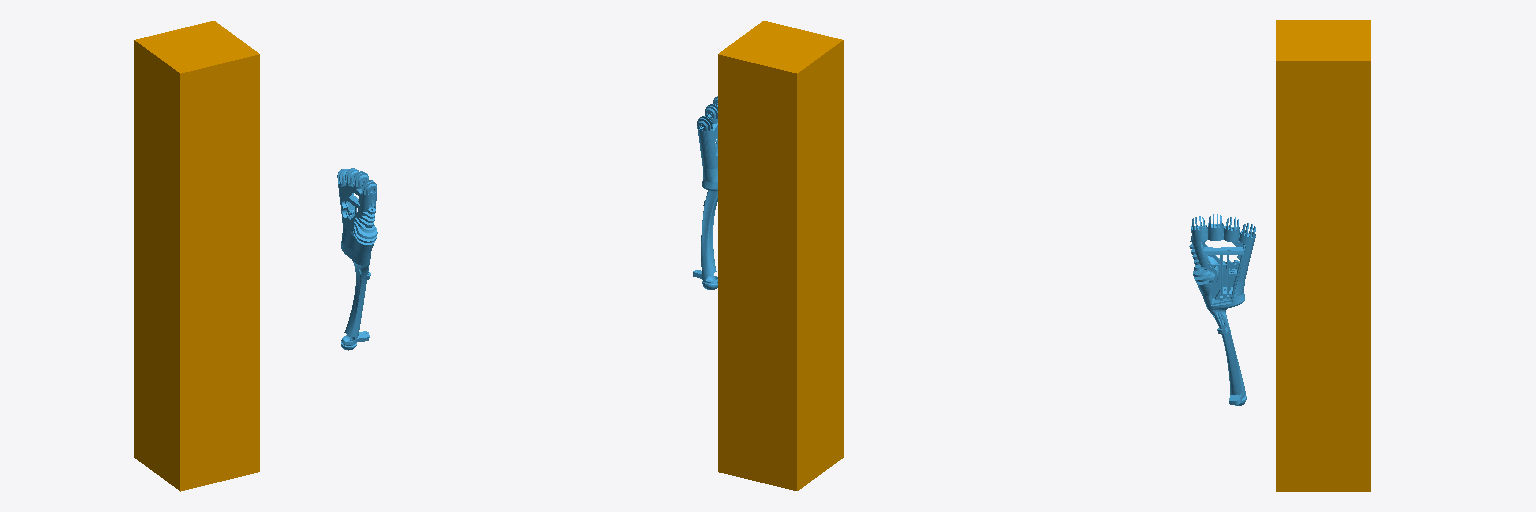
URDF robot description (arm):
<?xml version="1.0" ?>
<robot name="arm">
  <joint name="motor0" type="revolute">
    <parent link="arm__upper_arm"/>
    <child link="arm__hand"/>
    <origin rpy="0.64864 -1.56979 -2.21944" xyz="-0.02301 -0.19499 -0.51016"/>
    <axis xyz="0  1  0"/>
    <limit effort="0.0" lower="-0.7" upper="1.57" velocity="0.0"/>
  </joint>
  <joint name="motor1" type="fixed">
    <parent link="arm__arm_holder"/>
    <child link="arm__upper_arm"/>
    <origin rpy="1.57    0      1.5707" xyz="0.50001  0.21995  0.53039"/>
    <axis xyz="0  1  0"/>
    <limit effort="0.0" lower="0.0" upper="0.0" velocity="0.0"/>
  </joint>
  <link name="arm__arm_holder">
    <inertial>
      <mass value="2"/>
      <origin rpy="0  0  0" xyz="0    0.31  0.3"/>
      <inertia ixx="1" ixy="0" ixz="0" iyy="1" iyz="0" izz="1"/>
    </inertial>
    <collision name="arm__collision">
      <origin rpy="0  0  0" xyz="0    0.31  0.3"/>
      <geometry>
        <box size=".1 .1 .5"/>
      </geometry>
    </collision>
    <visual name="arm__visual">
      <origin rpy="0  0  0" xyz="0    0.31  0.3"/>
      <geometry>
        <box size=".1 .1 .5"/>
      </geometry>
    </visual>
  </link>
  <link name="arm__hand">
    <inertial>
      <mass value="5"/>
      <origin rpy="0    0   -1.57" xyz="1.50000000e-01   1.10000000e-04   0.00000000e+00"/>
      <inertia ixx="1" ixy="0" ixz="0" iyy="1" iyz="0" izz="1"/>
    </inertial>
    <collision name="arm__collision">
      <origin rpy="0    0   -1.57" xyz="1.50000000e-01   1.10000000e-04   0.00000000e+00"/>
      <geometry>
        <mesh filename="package://roboy_simulation/arm/dae/collision_p-handflaeche-teil-2-v01.dae" scale="1.0 1.0 1.0"/>
      </geometry>
    </collision>
    <visual name="arm__visual">
      <origin rpy="0    0   -1.57" xyz="1.50000000e-01   1.10000000e-04   0.00000000e+00"/>
      <geometry>
        <mesh filename="package://roboy_simulation/roboy/dae/p-handflaeche-teil-2-v01.dae OR roboy_simulation/arm/dae/p-handflaeche-teil-2-v01.dae" scale="1 1 1"/>
      </geometry>
    </visual>
  </link>
  <link name="arm__upper_arm">
    <inertial>
      <mass value="1"/>
      <origin rpy="0  0  0" xyz="0    0.02 -0.5"/>
      <inertia ixx="1" ixy="0" ixz="0" iyy="1" iyz="0" izz="1"/>
    </inertial>
    <collision name="arm__collision">
      <origin rpy="0  0  0" xyz="0    0.02 -0.5"/>
      <geometry>
        <mesh filename="package://roboy_simulation/arm/dae/collision_p-oberarm-1-v02.dae" scale="1.0 1.0 1.0"/>
      </geometry>
    </collision>
    <visual name="arm__visual">
      <origin rpy="0  0  0" xyz="0    0.02 -0.5"/>
      <geometry>
        <mesh filename="package://roboy_simulation/roboy/dae/p-oberarm-1-v02.dae OR roboy_simulation/arm/dae/p-oberarm-1-v02.dae" scale="1 1 1"/>
      </geometry>
    </visual>
  </link>
</robot>

--- What the picture shows (computed from the rendered views, not written in the file) ---
The picture shows the robot from 3 angles, left to right: view 1: azimuth 30°, elevation 25°; view 2: azimuth 150°, elevation 25°; view 3: azimuth 270°, elevation 25°; orthographic projection.
Robot: arm — 3 links, 2 joints (1 revolute, 1 fixed); root link arm__arm_holder; default pose: every joint at zero.
Visible links, largest first — view 1: arm__arm_holder, arm__hand; view 2: arm__arm_holder, arm__hand; view 3: arm__arm_holder, arm__hand.
Link boxes in pixels (x1,y1,x2,y2): arm__arm_holder: [134, 21, 259, 491]; arm__hand: [337, 168, 377, 350]; arm__arm_holder: [718, 21, 843, 490]; arm__hand: [693, 96, 717, 289]; arm__arm_holder: [1276, 20, 1370, 491]; arm__hand: [1189, 214, 1255, 405].
Size in the robot's own frame: 0.2118 by 0.1907 by 0.5 metres.
Meshes: 2 distinct files referenced, 1 mesh visuals loaded (1 Collada DAE); not drawn: 1 (reference not matched to a file when rendering).